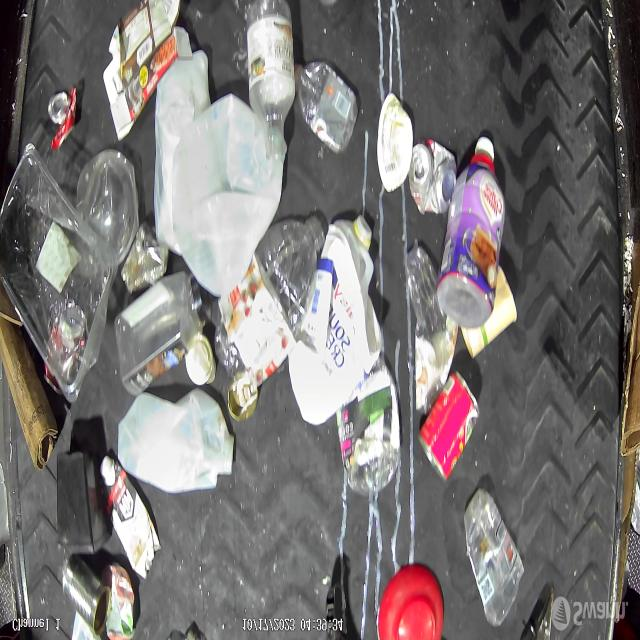can: (419, 371, 482, 480), (62, 552, 112, 637), (408, 137, 459, 215), (121, 222, 169, 294), (48, 89, 76, 150), (185, 334, 217, 387), (228, 377, 259, 422)
milk_jug: (163, 93, 285, 294), (288, 217, 382, 427), (154, 27, 212, 256), (114, 390, 234, 494)
plastic_bottle: (216, 219, 325, 376), (406, 238, 460, 414), (246, 1, 298, 128), (296, 60, 360, 155)
